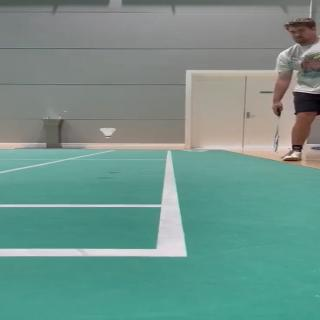Shuttle: (99, 128, 116, 139)
